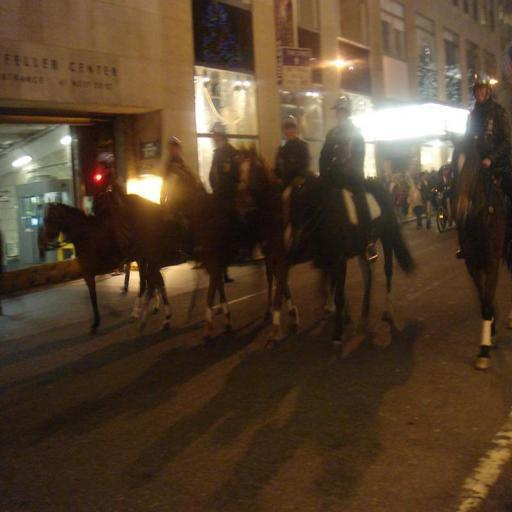horse: (275, 166, 419, 340), (232, 144, 336, 342), (159, 160, 273, 336), (94, 188, 204, 336), (39, 202, 161, 334), (446, 126, 512, 369)
